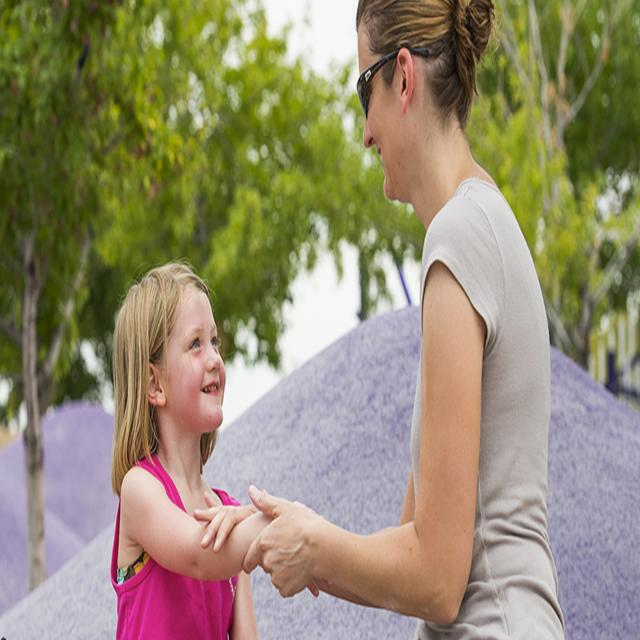adult: (243, 0, 566, 640)
child: (111, 260, 259, 640)
